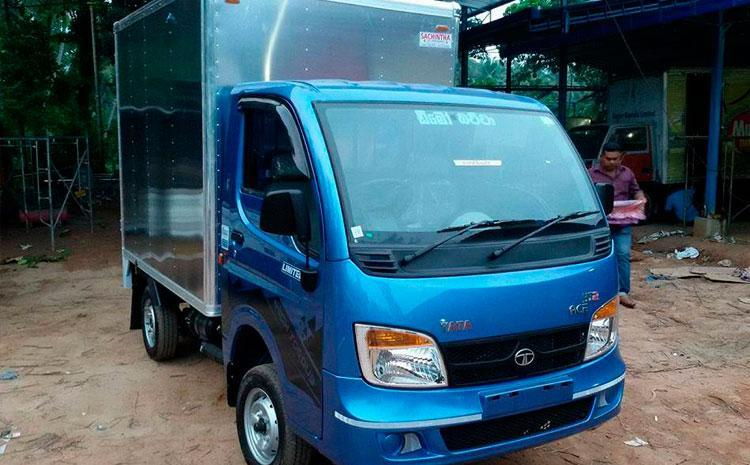truck: (112, 1, 625, 465)
